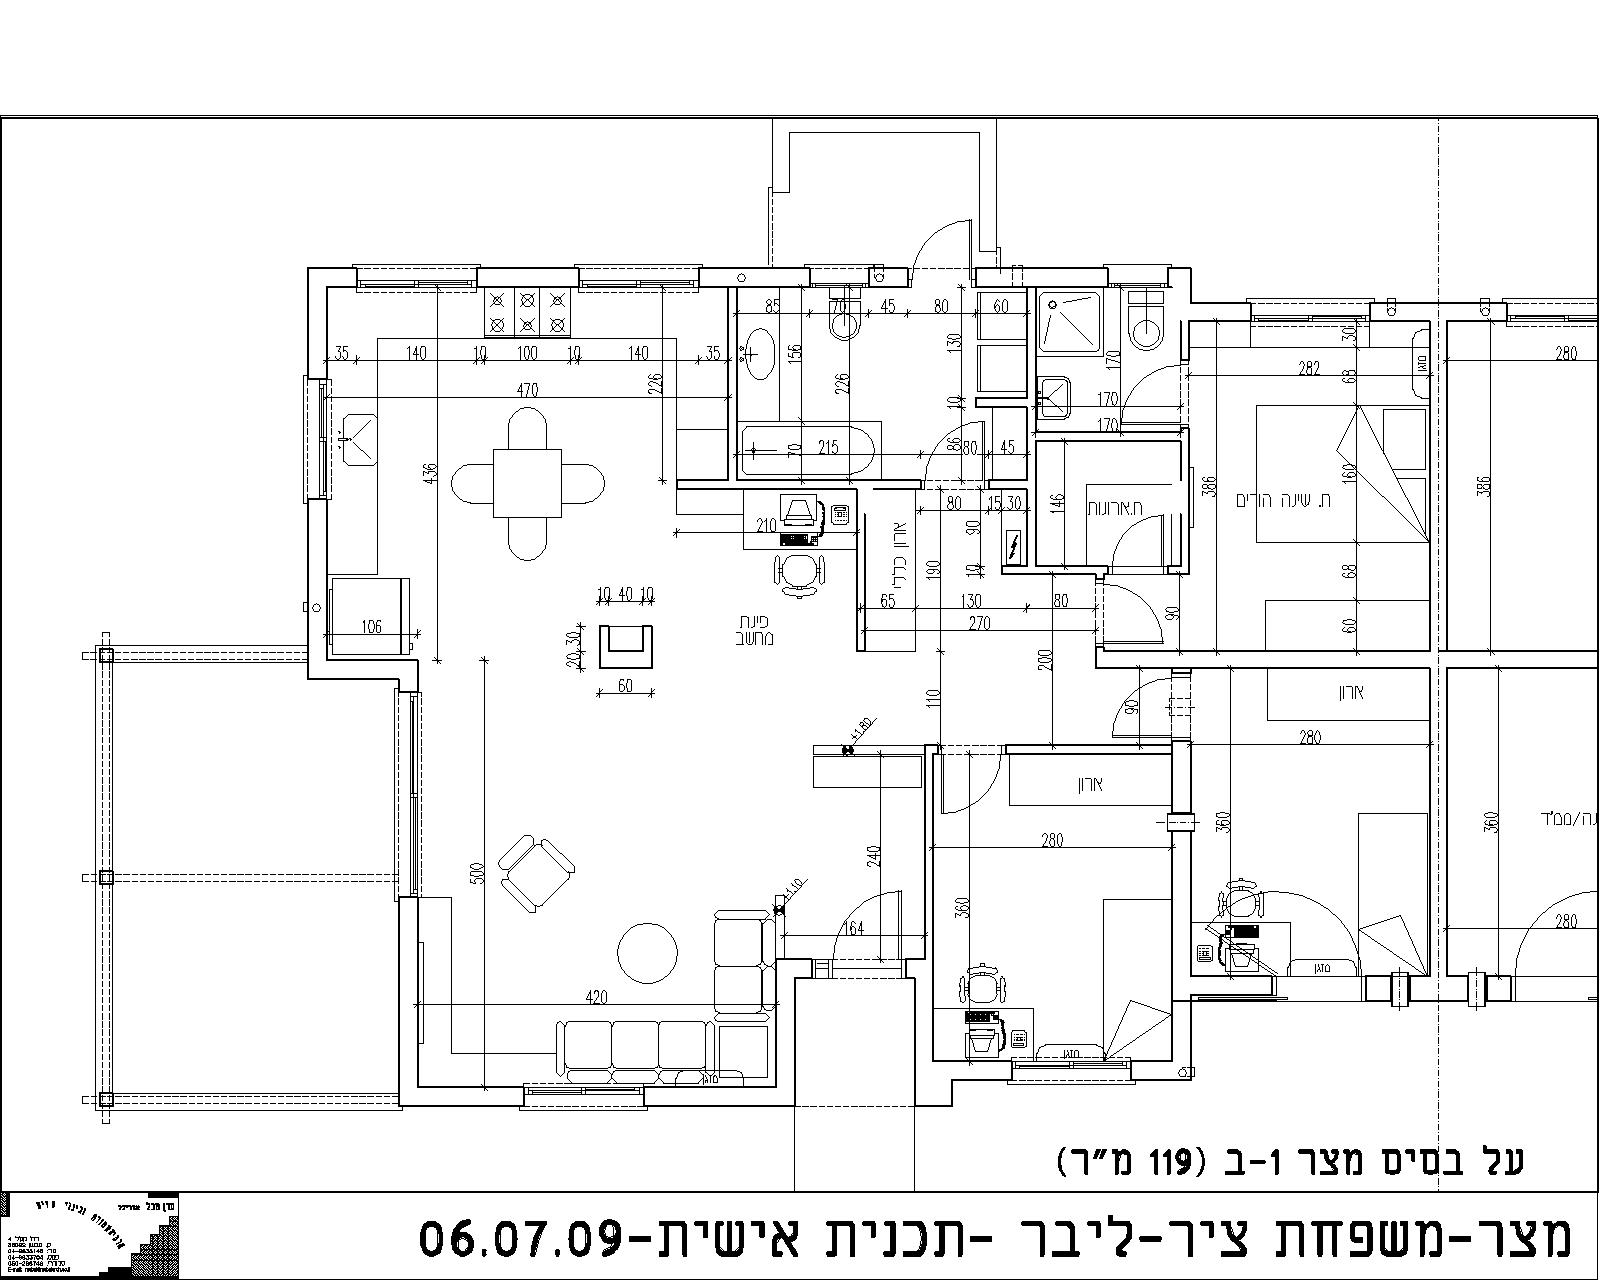door: (827, 886, 910, 955), (1109, 360, 1179, 428), (1108, 579, 1172, 648), (939, 756, 1010, 819), (1098, 679, 1169, 742), (921, 415, 991, 475), (908, 213, 976, 266), (1102, 509, 1166, 562)
window: (394, 690, 422, 899), (522, 1081, 647, 1113), (1010, 1055, 1132, 1087), (357, 264, 477, 293), (304, 380, 333, 499), (579, 265, 699, 293)
